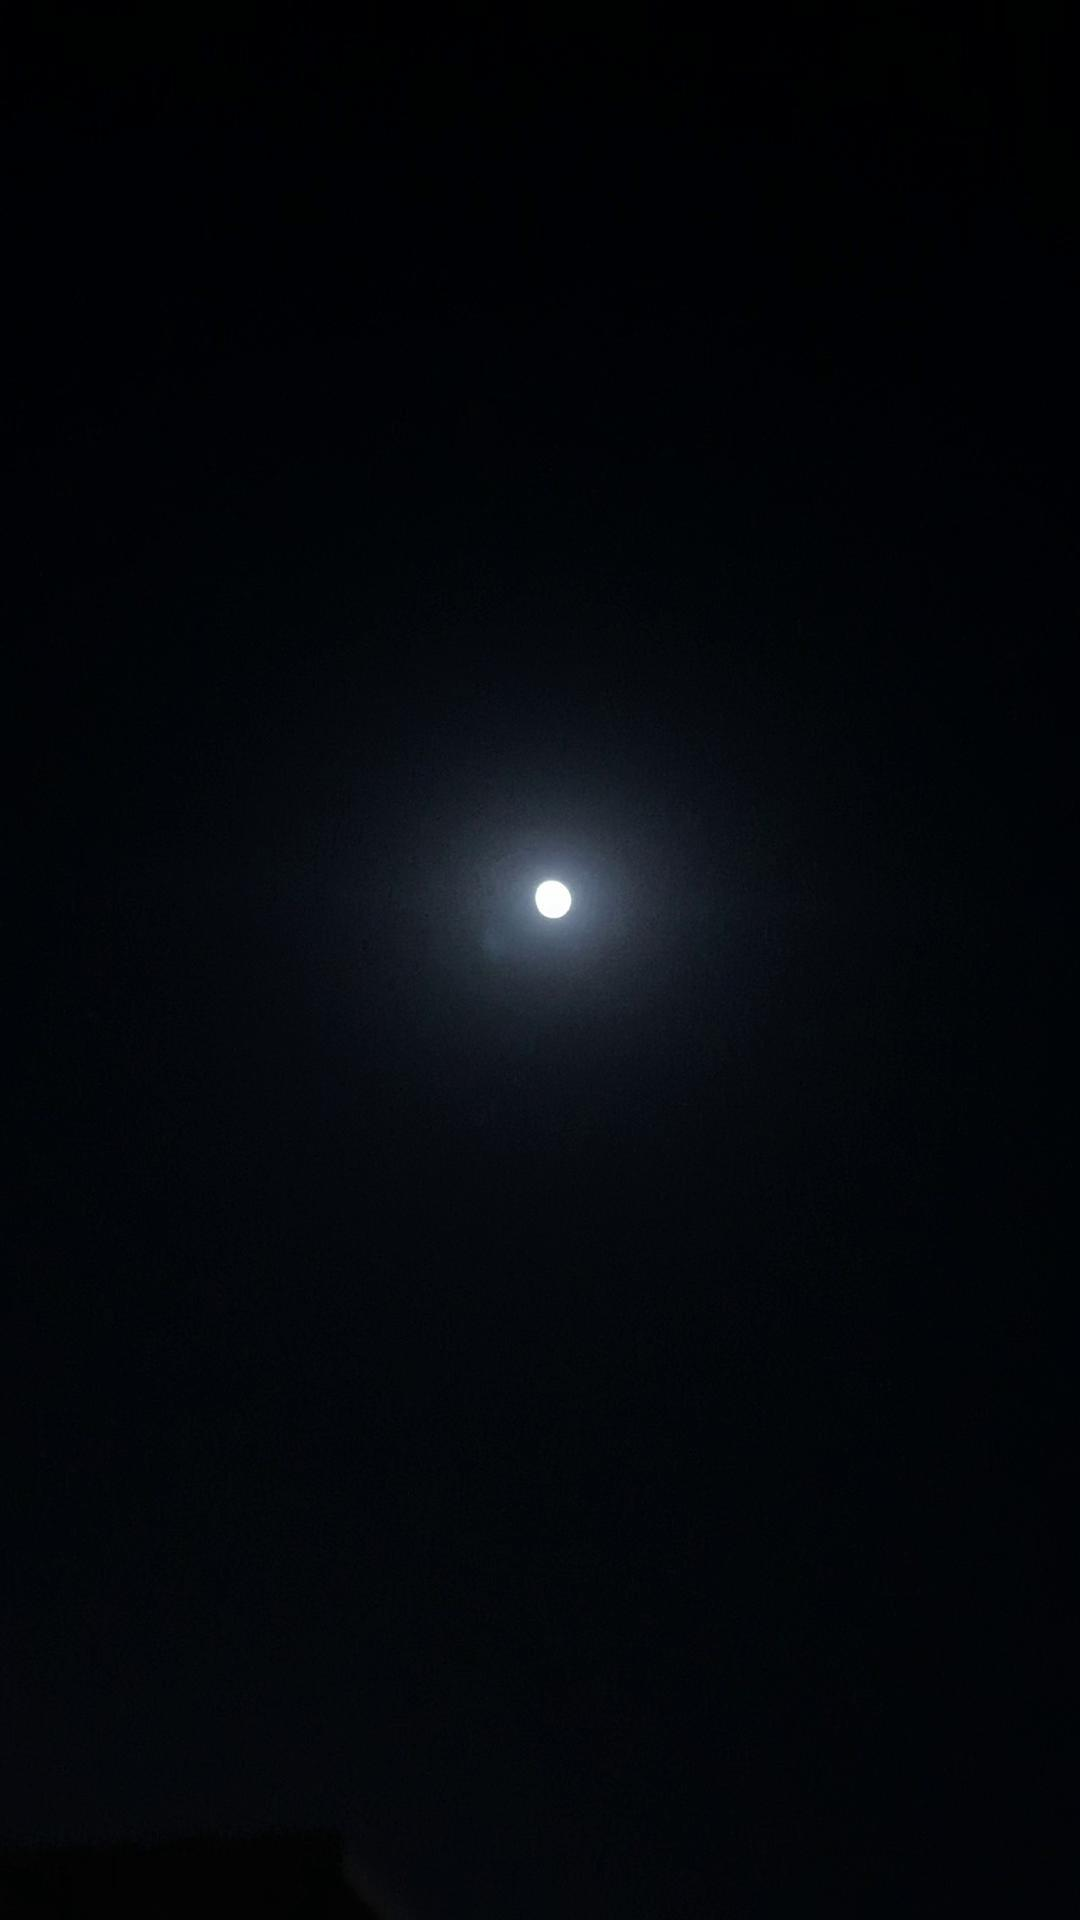moon: (514, 864, 601, 960)
